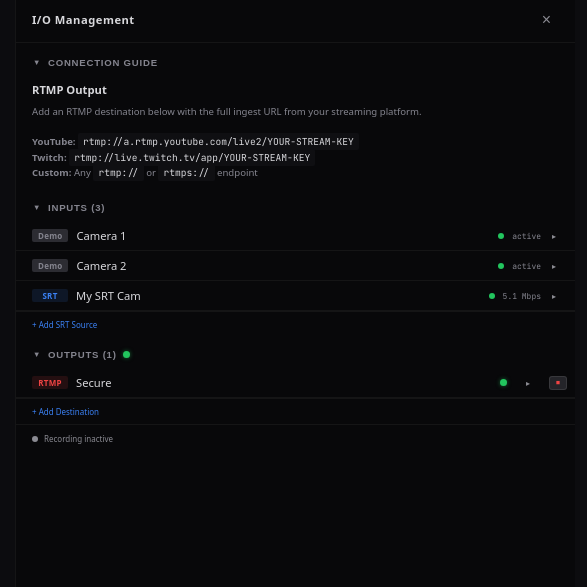
Test case: IOPanel RTMPS certificate › shows an unverified certificate on the destination
Click the button with class "row-header" showing "RTMP Secure ▸": click(50, 383) [16,368,549,397]
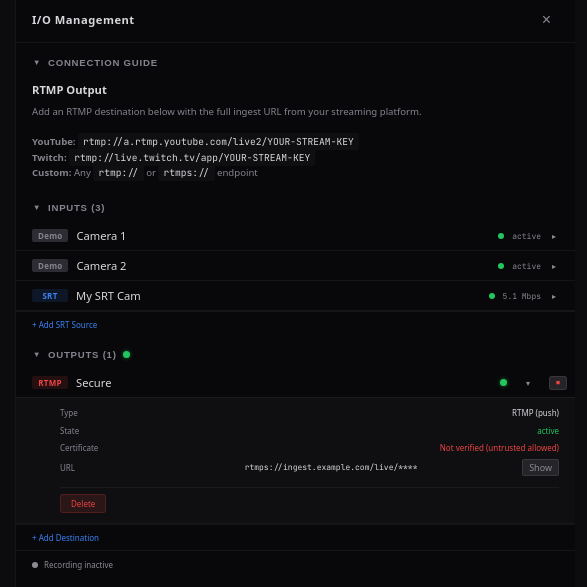
Expected: the element with class "dest-row" shows "Not verified (untrusted allowed)", [440,442,559,453]
